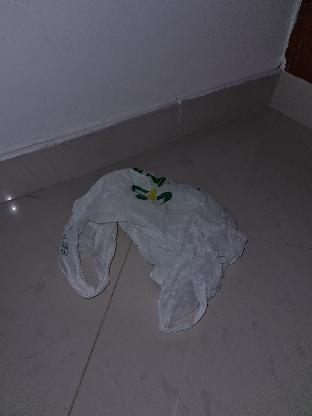Plastic Bag: (57, 164, 247, 330)
